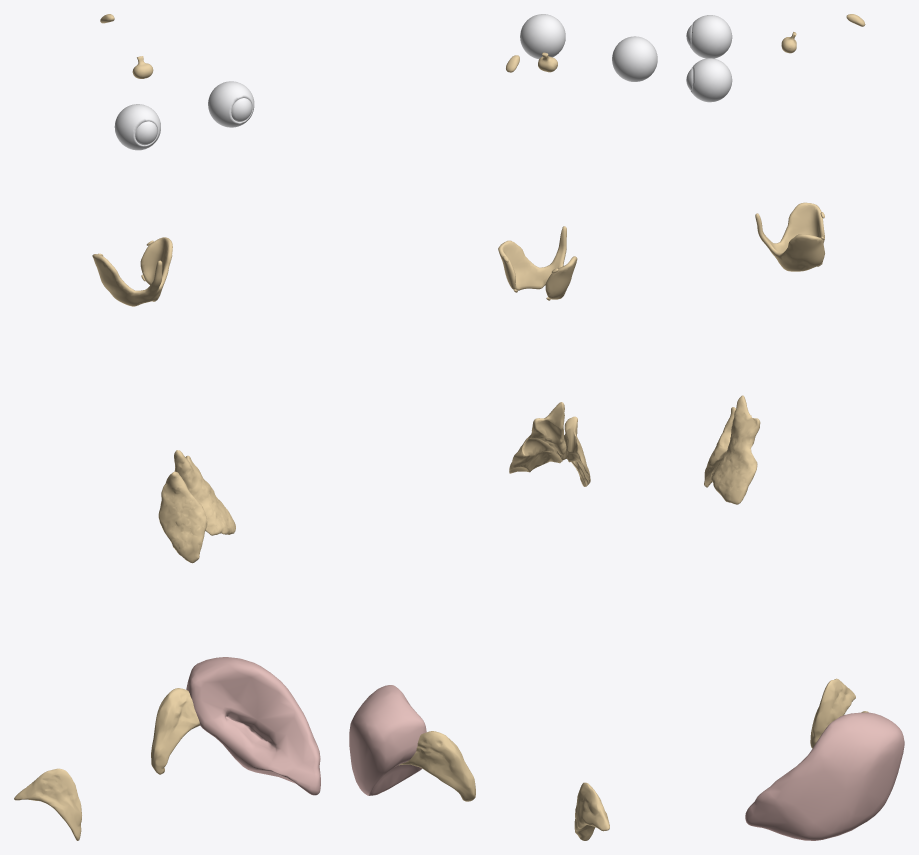
Rendered from other.glb.
3 views of the same model, side by side, from view 1: azimuth 30°, elevation 25°; view 2: azimuth 150°, elevation 25°; view 3: azimuth 270°, elevation 25° (orthographic). The views are drawn at different scales.
Parts seen in each view (by area): view 1: spleen, thymus, thyroid, adrenal-gland-left, adrenal-gland-right, eye-left, eye-right; view 2: spleen, thymus, thyroid, adrenal-gland-left, eye-right, eye-left, adrenal-gland-right; view 3: spleen, thymus, thyroid, eye-right, eye-left, adrenal-gland-right.
Boxes of the visible parts, <box> form: spleen: <box>186,657,320,795</box>; thymus: <box>158,450,235,563</box>; thyroid: <box>92,237,172,306</box>; adrenal-gland-left: <box>151,688,199,774</box>; adrenal-gland-right: <box>14,768,81,840</box>; eye-left: <box>208,81,254,127</box>; eye-right: <box>114,104,160,150</box>; spleen: <box>349,685,426,795</box>; thymus: <box>509,402,590,486</box>; thyroid: <box>498,226,577,300</box>; adrenal-gland-left: <box>399,731,475,801</box>; eye-right: <box>612,36,657,81</box>; eye-left: <box>520,14,565,59</box>; adrenal-gland-right: <box>574,782,609,840</box>; spleen: <box>745,712,904,840</box>; thymus: <box>704,395,760,504</box>; thyroid: <box>755,202,824,271</box>; eye-right: <box>686,15,732,58</box>; eye-left: <box>686,58,732,102</box>; adrenal-gland-right: <box>810,678,855,748</box>.
Bounding box in the file's own units: 0.1765 × 0.4995 × 0.1301.
